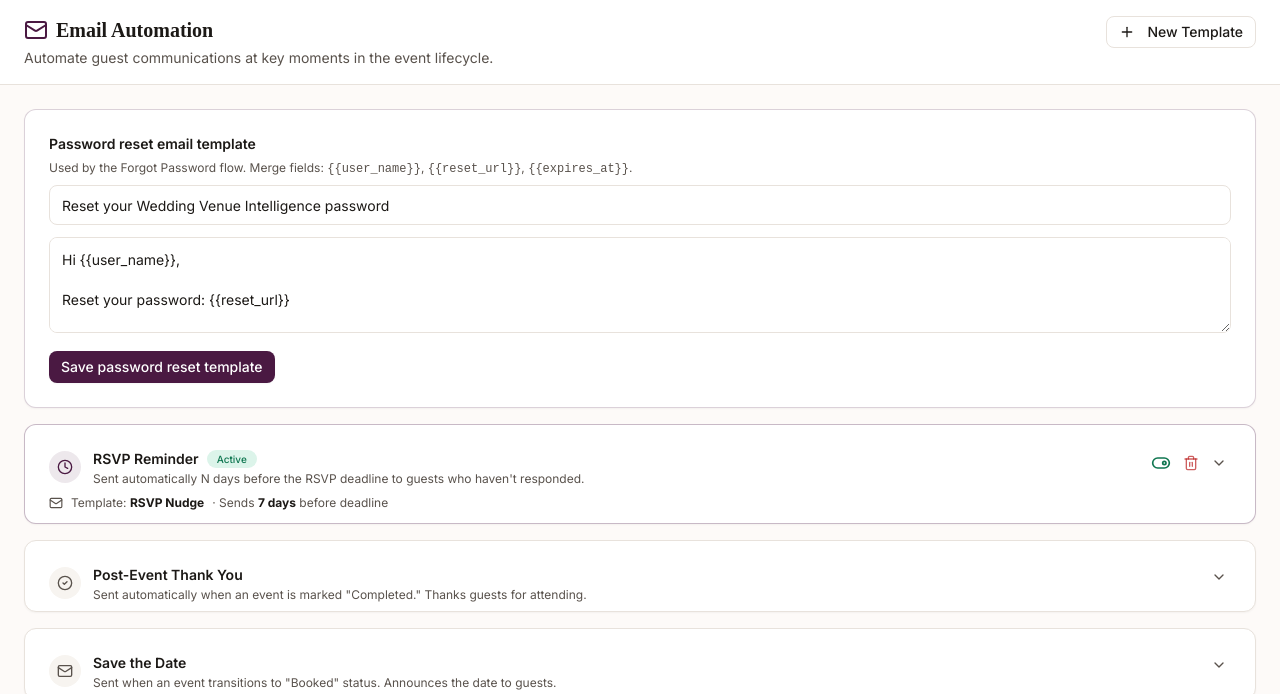
Test: EmailAutomationStudio › expands configuration panel on chevron click
The width and height of the screenshot is (1280, 694).
Expected: the heading "RSVP Reminder Active" is shown, top-left (93, 450), bottom-right (257, 468)
Step 1. Click the button named "Expand configuration" in the row of "Active" → (1219, 463), box top-left (1207, 451), bottom-right (1231, 475)
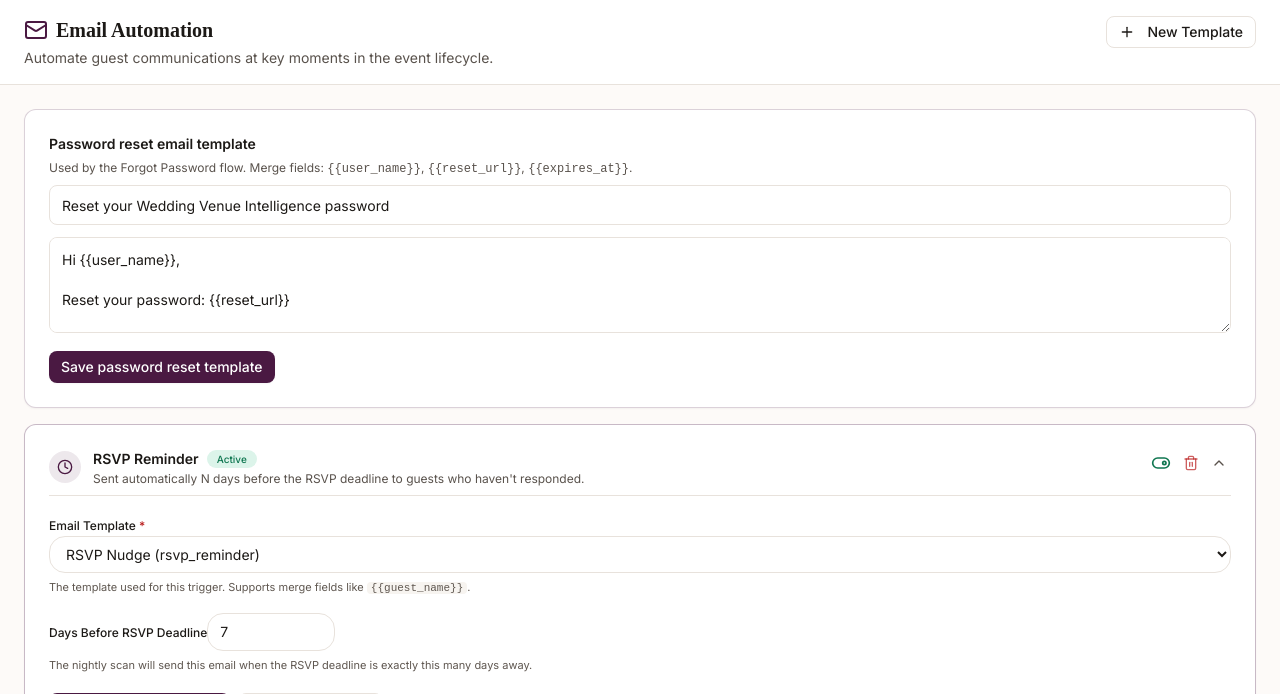
Expected: the text "Email Template" is shown, top-left (49, 518), bottom-right (139, 533)
